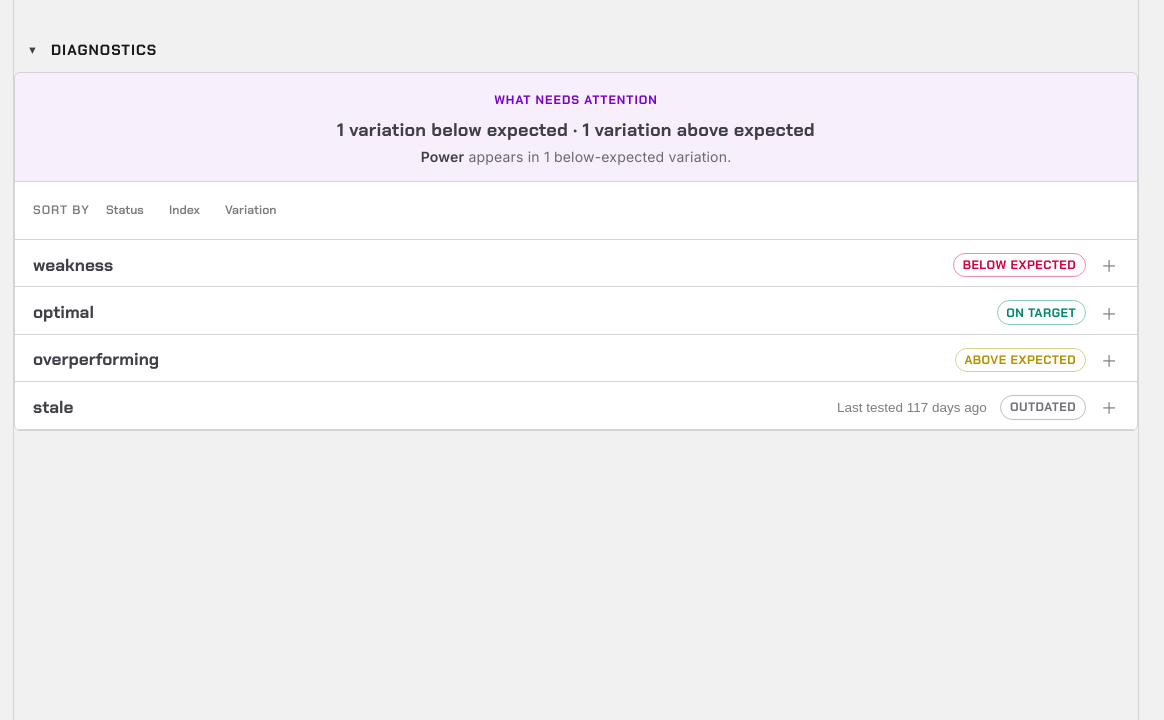
Test: DiagnosticsPanel › collapses and expands individual diagnostic rows
Click the button "weakness Below expected ＋" at point(73, 265), box [15, 240, 1137, 286]
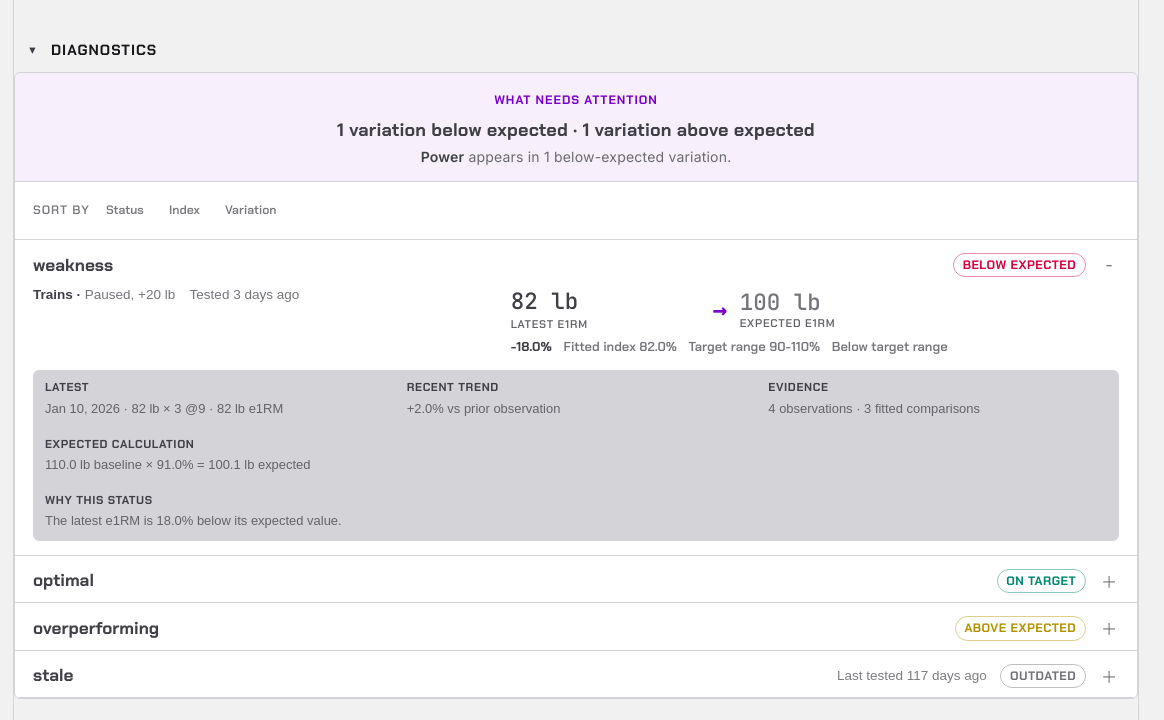
Now the button with id "diagnostic-weakness-details" is shown, box [15, 286, 1137, 555]
